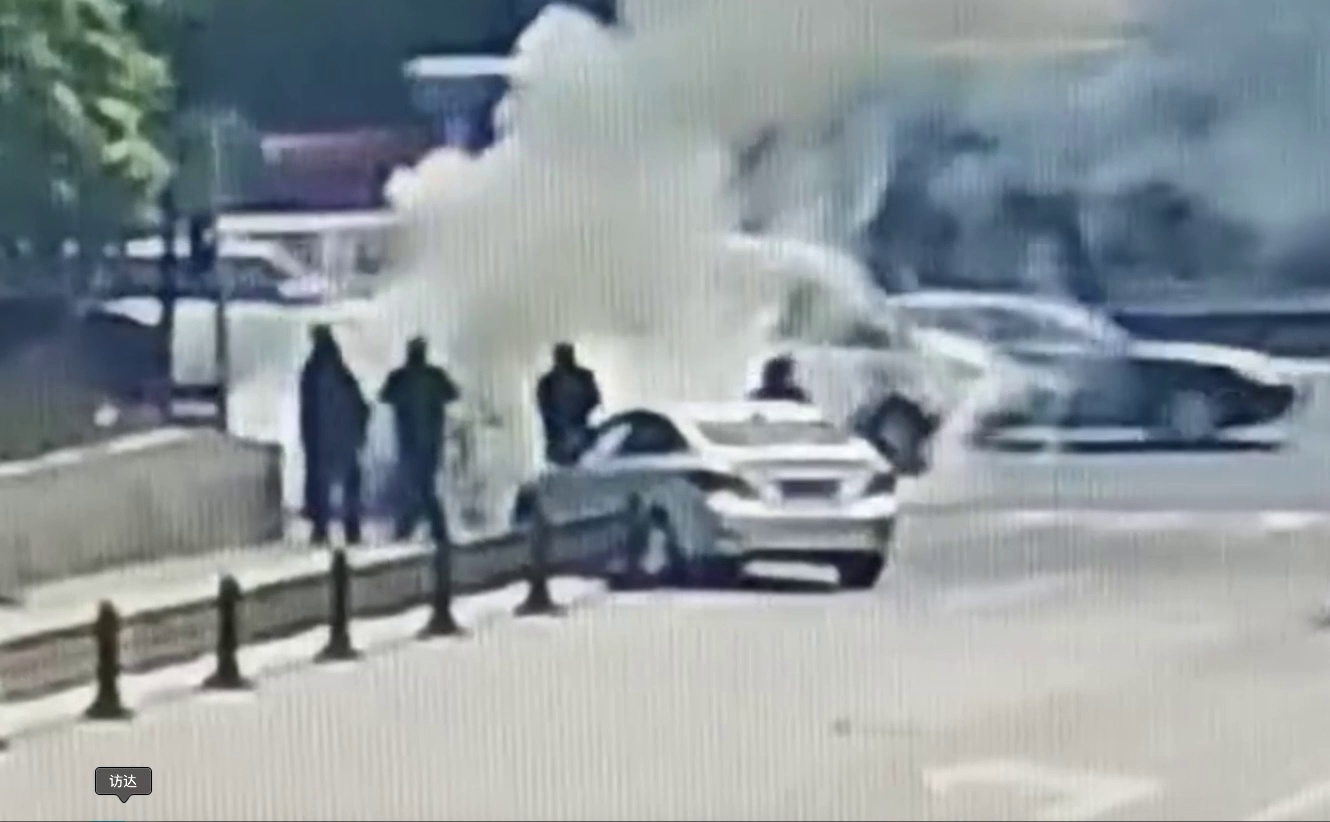smoke: (398, 25, 1060, 392)
